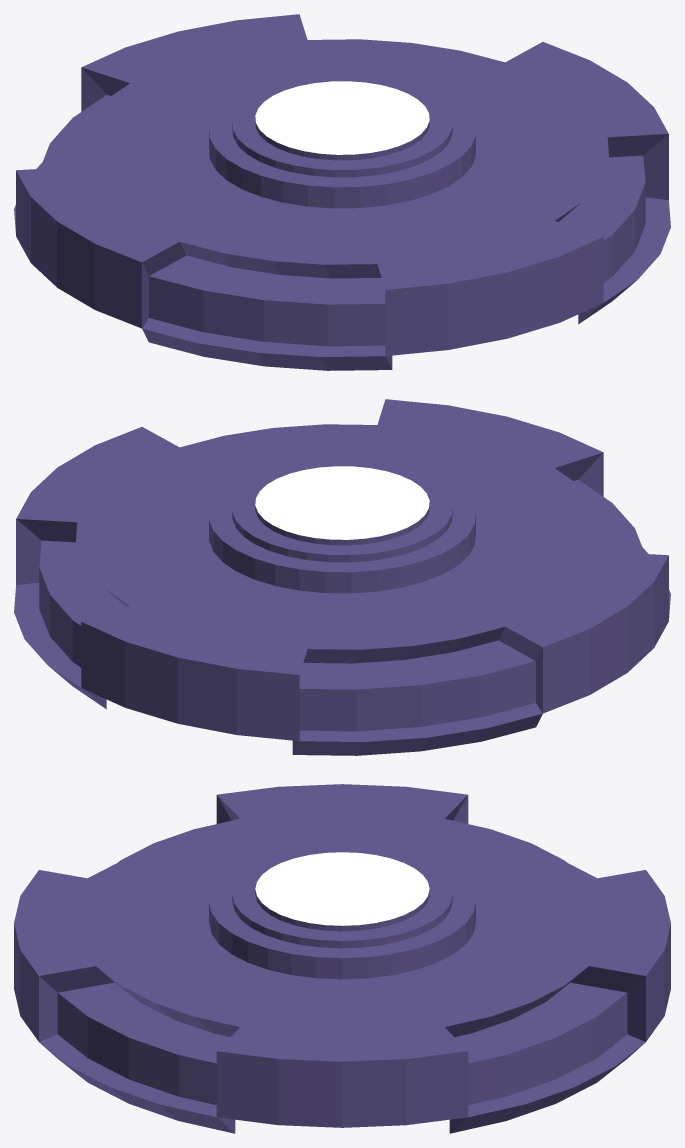
The model's file is button.fbx.
The picture shows the model from 3 angles, top to bottom: view 1: azimuth 30°, elevation 25°; view 2: azimuth 150°, elevation 25°; view 3: azimuth 270°, elevation 25°; orthographic projection.
Parts seen in each view (by area): view 1: Cylinder; view 2: Cylinder; view 3: Cylinder.
Part boxes in pixels (x1=…): Cylinder: x1=14, y1=14, x2=670, y2=370; Cylinder: x1=14, y1=399, x2=670, y2=755; Cylinder: x1=14, y1=784, x2=670, y2=1133.
Bounding box in the file's own units: 200 × 41.8 × 200.
